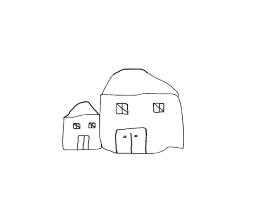closed_window: (112, 98, 135, 118), (149, 99, 169, 119), (87, 120, 98, 134), (71, 121, 84, 131)
door: (111, 122, 154, 157), (74, 133, 92, 153)
roof: (92, 59, 190, 100), (62, 97, 103, 121)
small_house: (1, 1, 260, 221)
wall: (97, 89, 185, 159)
